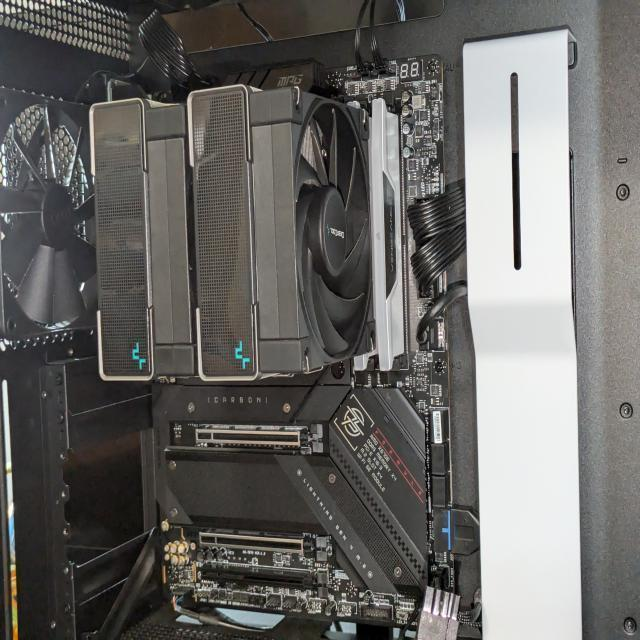CPU_Fan: (88, 81, 376, 382)
Mainboard: (158, 53, 454, 630)
RAM: (372, 96, 405, 372), (355, 354, 377, 371)
